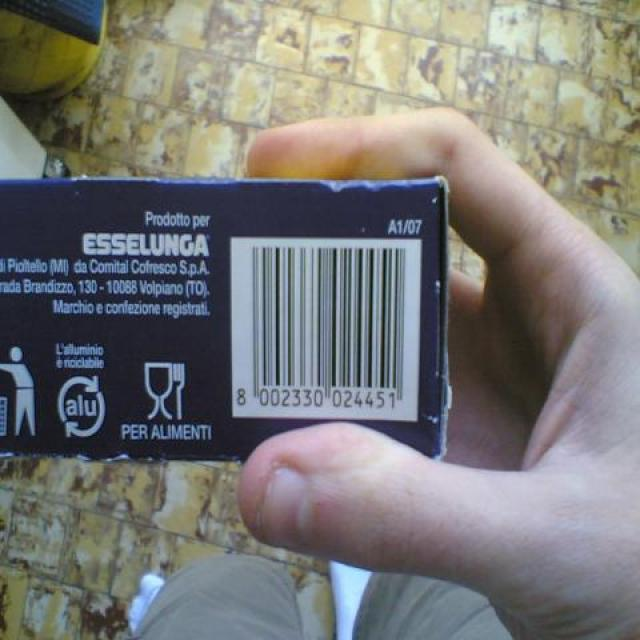Barcode: (231, 235, 422, 422)
